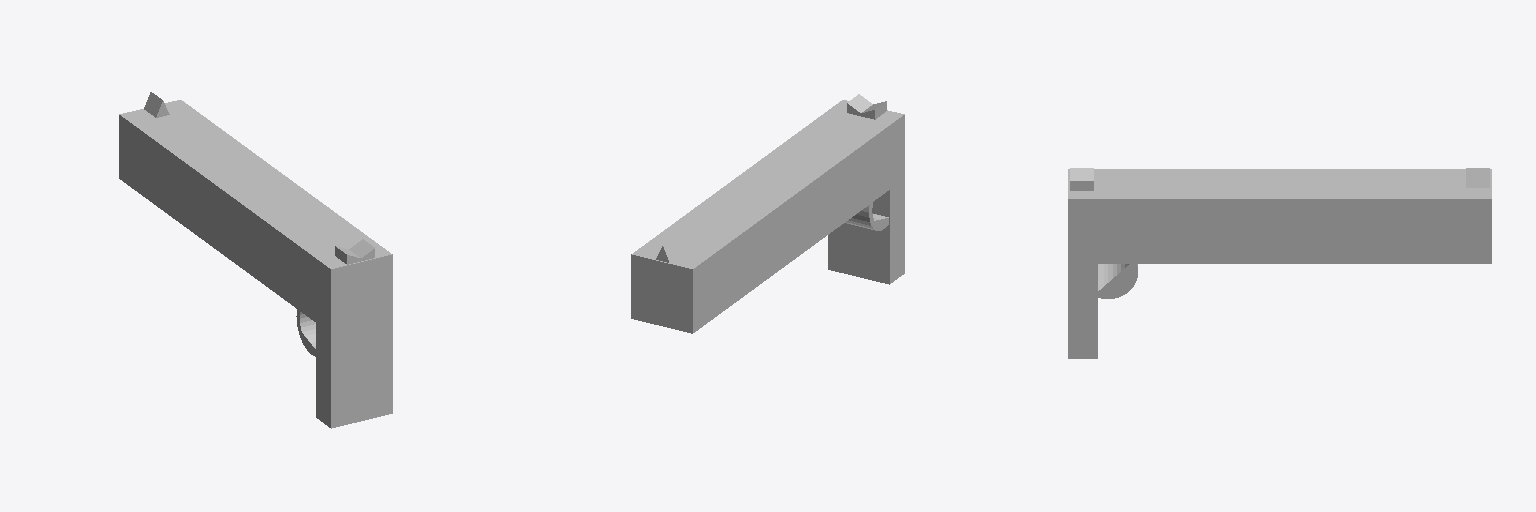
The model's file is gun.obj.
3 renders of one model, left to right at view 1: azimuth 30°, elevation 25°; view 2: azimuth 150°, elevation 25°; view 3: azimuth 270°, elevation 25°, orthographic.
Parts seen in each view (by area): view 1: Cube, Cube.002, Cylinder, Cube.001; view 2: Cube, Cube.002, Cube.001, Cylinder; view 3: Cube, Cylinder, Cube.001, Cube.002.
Part boxes in pixels (x1,y1,x2,y2): Cube: (119, 100, 392, 428); Cube.002: (125, 92, 367, 423); Cylinder: (119, 115, 392, 426); Cube.001: (121, 104, 392, 422); Cube: (631, 100, 904, 333); Cube.002: (646, 112, 904, 308); Cube.001: (631, 94, 904, 327); Cylinder: (635, 116, 904, 283); Cube: (1068, 169, 1491, 282); Cylinder: (1068, 199, 1491, 357); Cube.001: (1068, 168, 1491, 358); Cube.002: (1068, 168, 1491, 358).
Bounding box in the file's own units: 22.89 × 62.33 × 136.